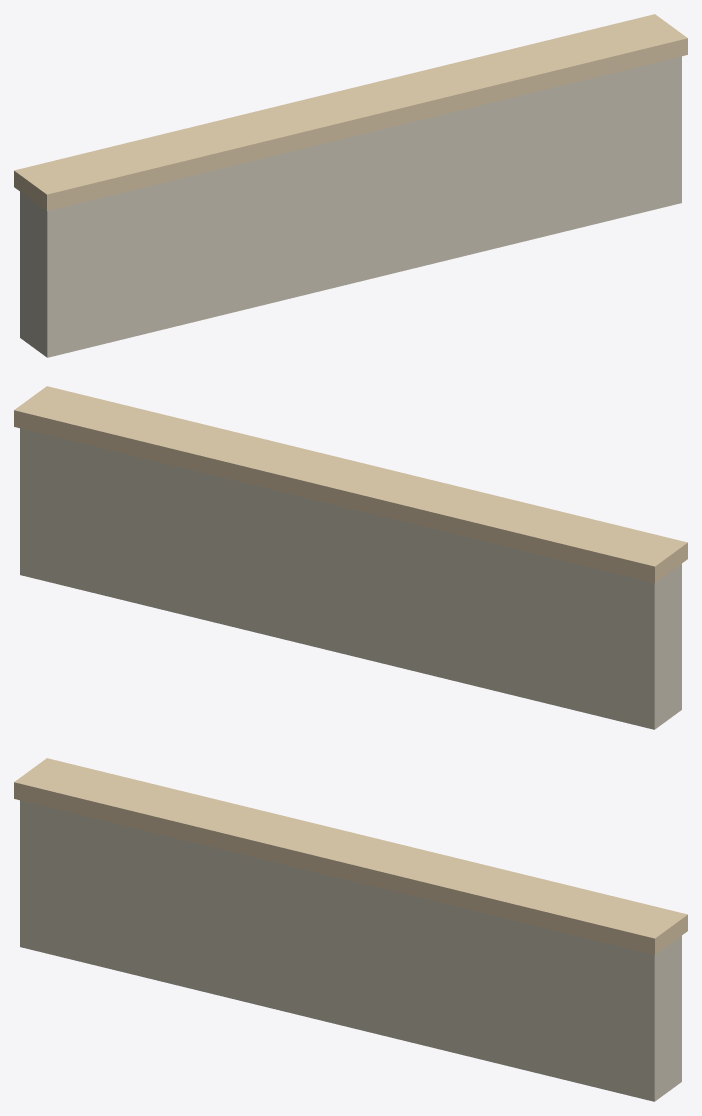
Rendered from SD_Railing.fbx.
3 renders of one model, top to bottom at view 1: azimuth 30°, elevation 25°; view 2: azimuth 150°, elevation 25°; view 3: azimuth 330°, elevation 25°, orthographic.
Parts seen in each view (by area): view 1: SD_Railing; view 2: SD_Railing; view 3: SD_Railing.
Part boxes in pixels (x1,y1,x2,y2): SD_Railing: [14, 14, 687, 357]; SD_Railing: [14, 386, 687, 729]; SD_Railing: [14, 758, 687, 1101].
Size of the model in its own units: 4.04 by 1 by 0.36.
